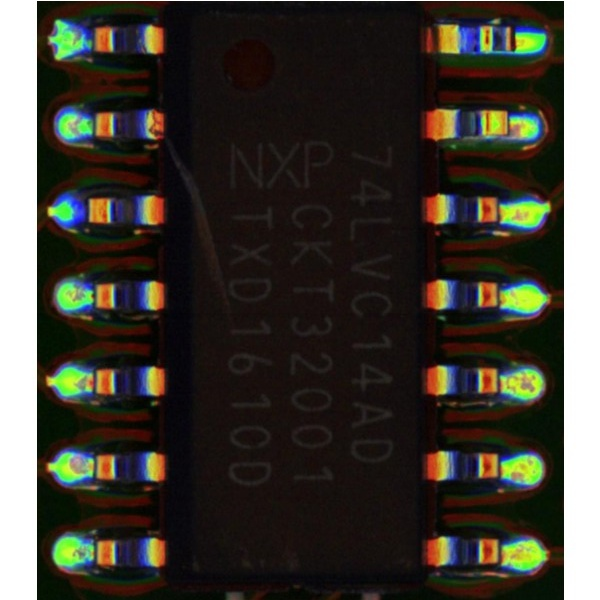Bad_podu: (84, 372, 106, 391), (506, 32, 527, 50), (501, 116, 519, 135)
